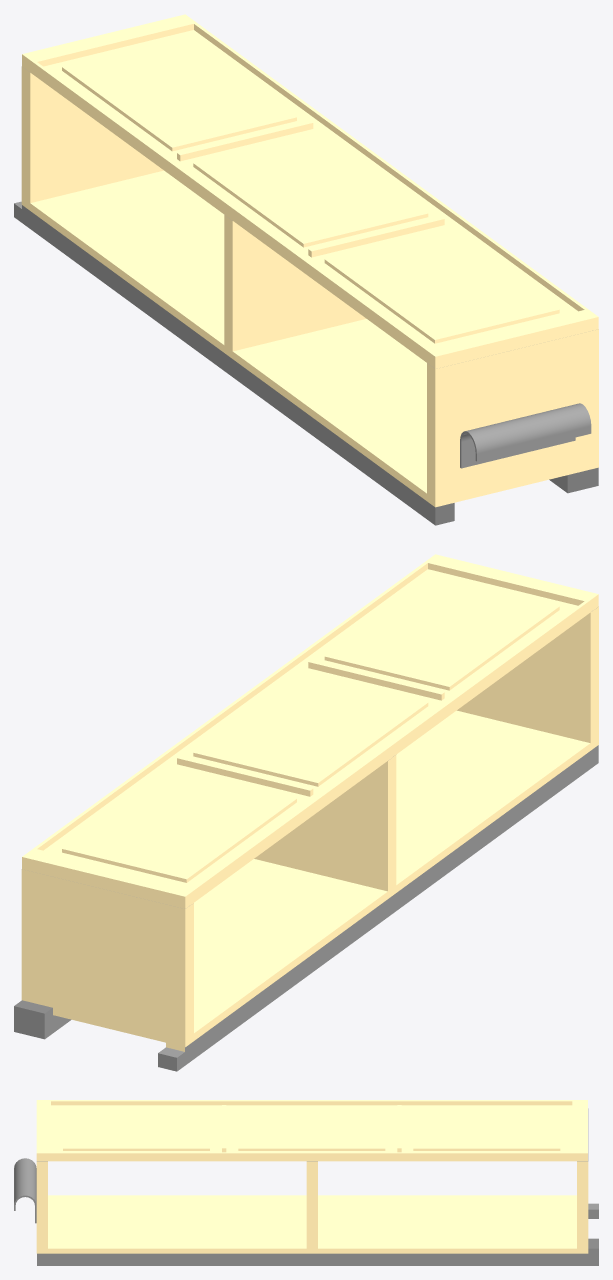
Rendered from PLT_CAR_P3LI.gltf.
3 renders of one model, top to bottom at view 1: azimuth 30°, elevation 25°; view 2: azimuth 150°, elevation 25°; view 3: azimuth 270°, elevation 25°, orthographic. The views are drawn at different scales.
Visible parts, largest first — view 1: Frm119, Frm115, Poly_Geom_Data; view 2: Frm119, Frm115; view 3: Frm119, Frm115.
Boxes of the visible parts, box(x1,y1,x2,y2) form: Frm119: box(21, 14, 598, 507); Frm115: box(14, 201, 592, 524); Poly_Geom_Data: box(435, 467, 598, 525); Frm119: box(21, 554, 598, 1051); Frm115: box(14, 607, 598, 1071); Frm119: box(36, 1100, 588, 1253); Frm115: box(14, 1108, 598, 1265).
Bounding box in the file's own units: 111 × 110 × 517.
